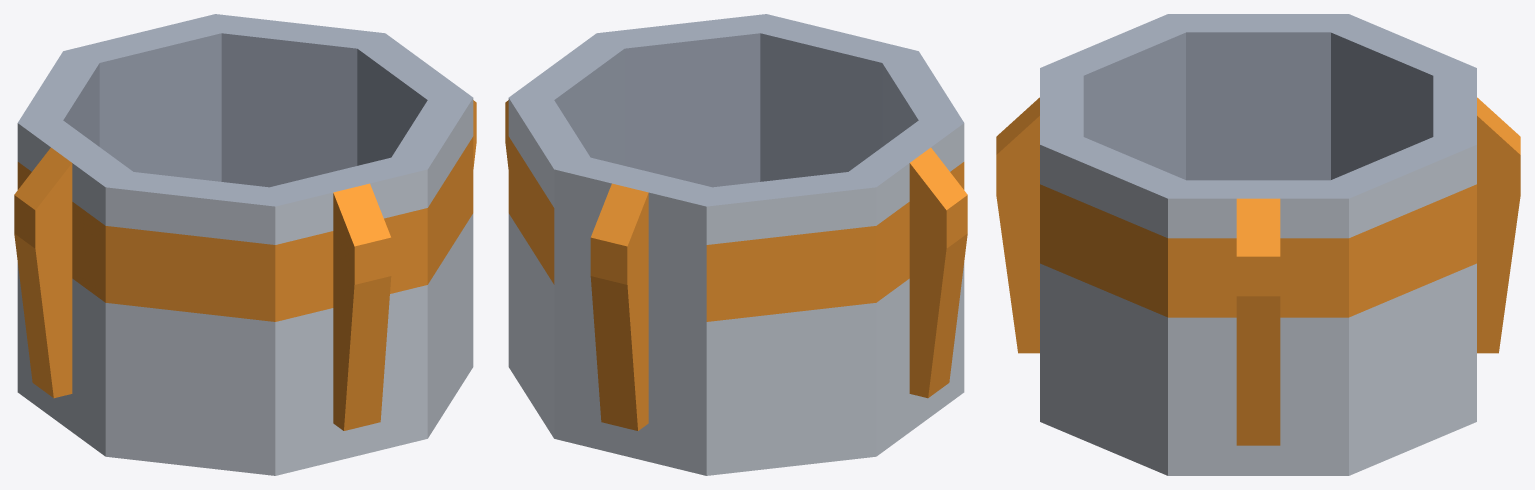
File: rocket_finsB.fbx
3 views of the same model, side by side, from view 1: azimuth 30°, elevation 25°; view 2: azimuth 150°, elevation 25°; view 3: azimuth 270°, elevation 25° (orthographic). The views are drawn at different scales.
Parts seen in each view (by area): view 1: rocket_finsB; view 2: rocket_finsB; view 3: rocket_finsB.
Part boxes in pixels (x1,y1,x2,y2): rocket_finsB: (14,14,476,475); rocket_finsB: (505,14,967,475); rocket_finsB: (996,14,1520,475).
Bounding box in the file's own units: 12 × 7 × 12.
